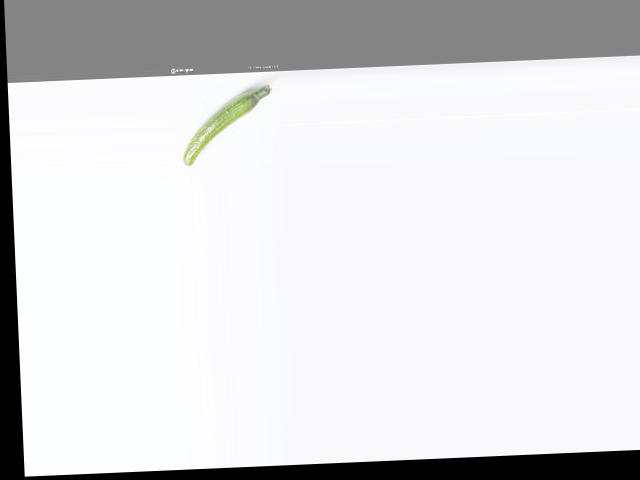cucumber: (181, 84, 275, 165)
